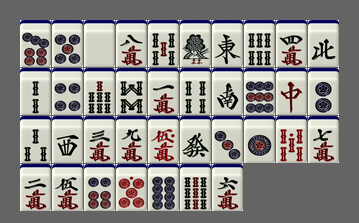0m: (148, 116, 179, 163)
0p: (116, 164, 147, 211)
0s: (276, 116, 307, 163)
1m: (148, 68, 179, 115)
1p: (244, 116, 275, 163)
1s: (180, 20, 211, 67)
1z: (212, 20, 243, 67)
2m: (20, 164, 51, 211)
2p: (308, 68, 339, 115)
2s: (20, 68, 51, 115)
2z: (212, 68, 243, 115)
3m: (84, 116, 115, 163)
3p: (212, 116, 243, 163)
3s: (20, 116, 51, 163)
3z: (52, 116, 83, 163)
4m: (276, 20, 307, 67)
4p: (52, 68, 83, 115)
4s: (180, 68, 211, 115)
4z: (308, 20, 339, 67)
5m: (52, 164, 83, 211)
5p: (52, 20, 83, 67)
5s: (148, 20, 179, 67)
5z: (84, 20, 115, 67)
6m: (212, 164, 243, 211)
6p: (84, 164, 115, 211)
6s: (244, 20, 275, 67)
6z: (180, 116, 211, 163)
7m: (308, 116, 339, 163)
7p: (20, 20, 51, 67)
7s: (84, 68, 115, 115)
7z: (276, 68, 307, 115)
8m: (116, 20, 147, 67)
8p: (148, 164, 179, 211)
8s: (116, 68, 147, 115)
9m: (116, 116, 147, 163)
9p: (244, 68, 275, 115)
9s: (180, 164, 211, 211)
